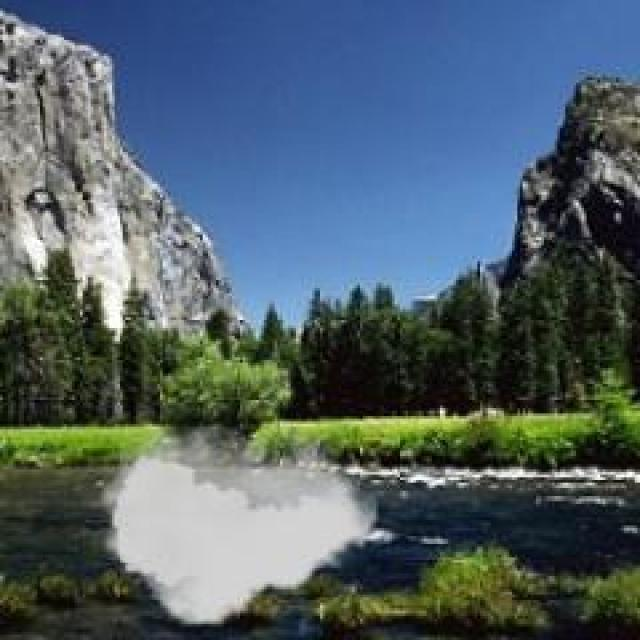smoke: (99, 426, 377, 626)
